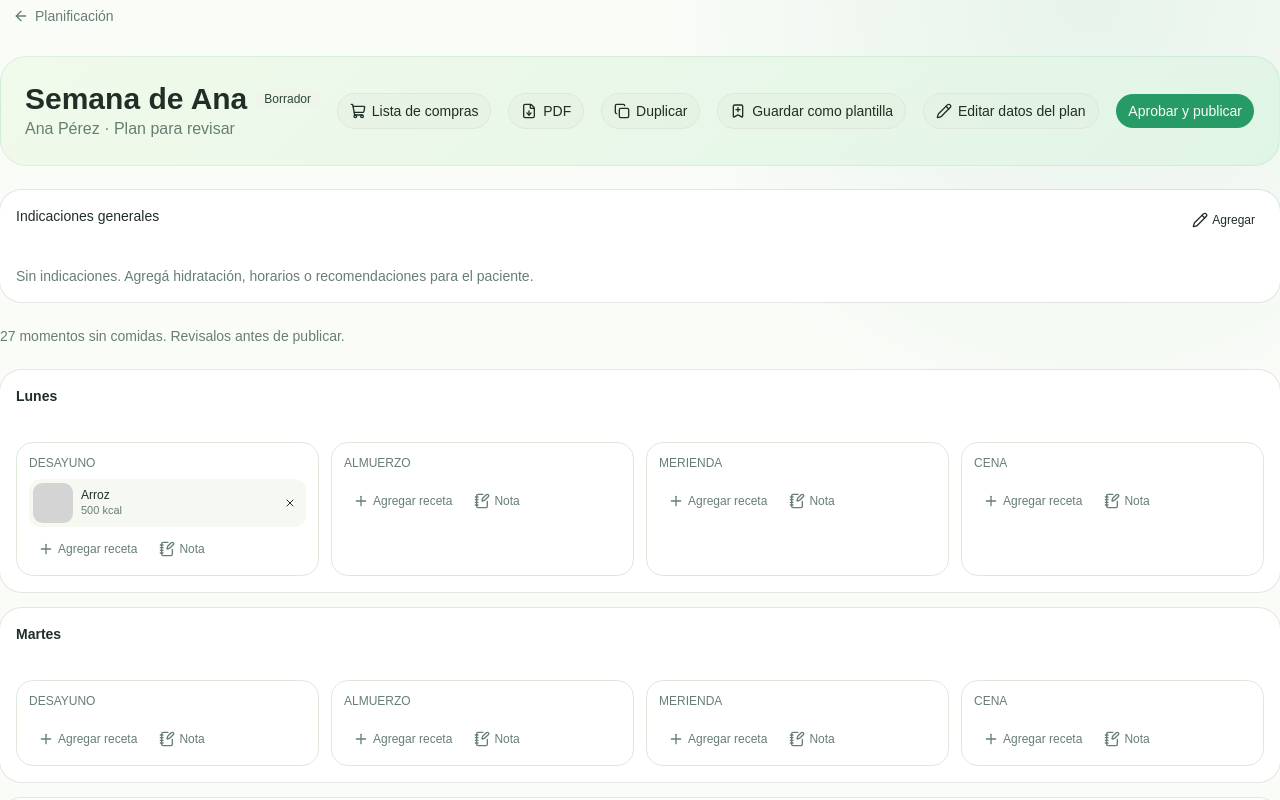
Test: Revisión del plan › refleja una receta sólo después de guardarla y evita el doble envío
The width and height of the screenshot is (1280, 800).
Expected: the heading "Semana de Ana" is shown, [25,81,247,117]
Click the 1st button "Agregar receta". click: (403, 501)
box: [344,487,461,515]
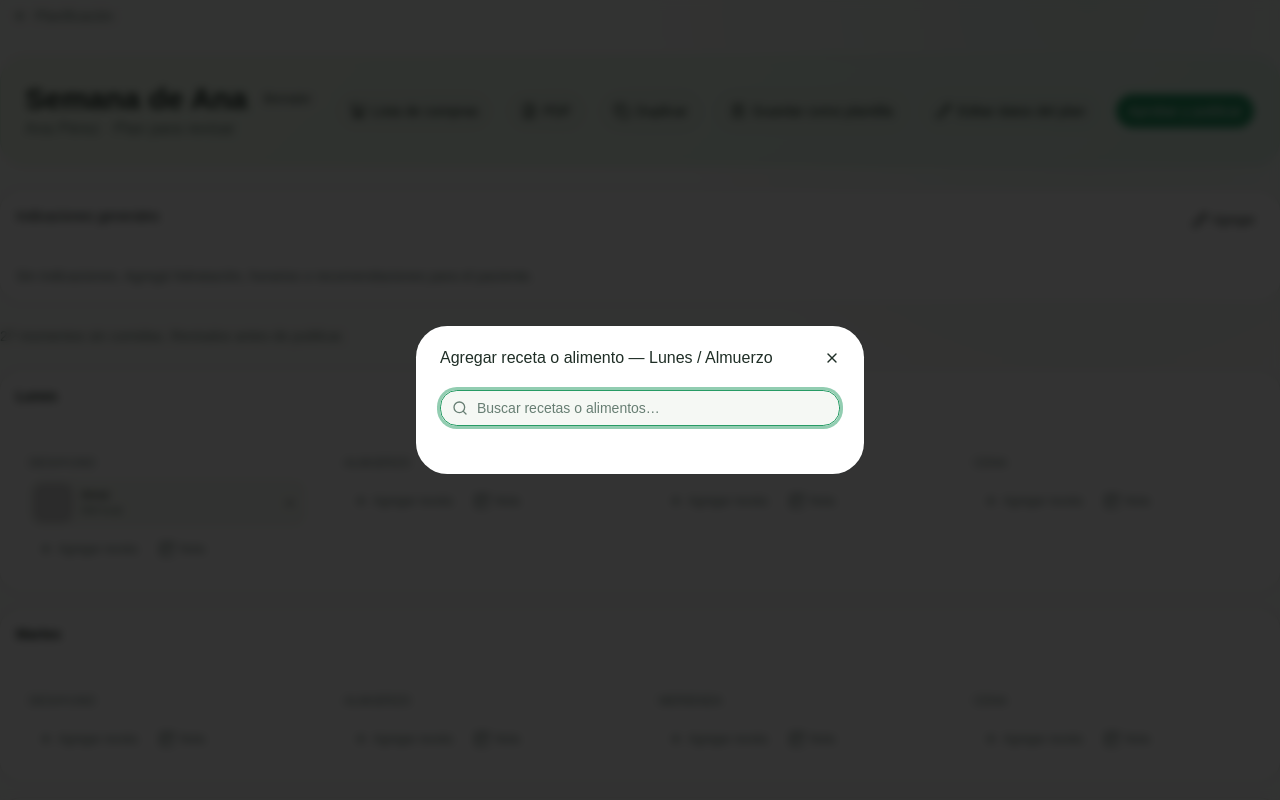
Type "arroz" into the field with placeholder "Buscar recetas o alimentos…". click: (640, 408)
box: [440,390,840,426]
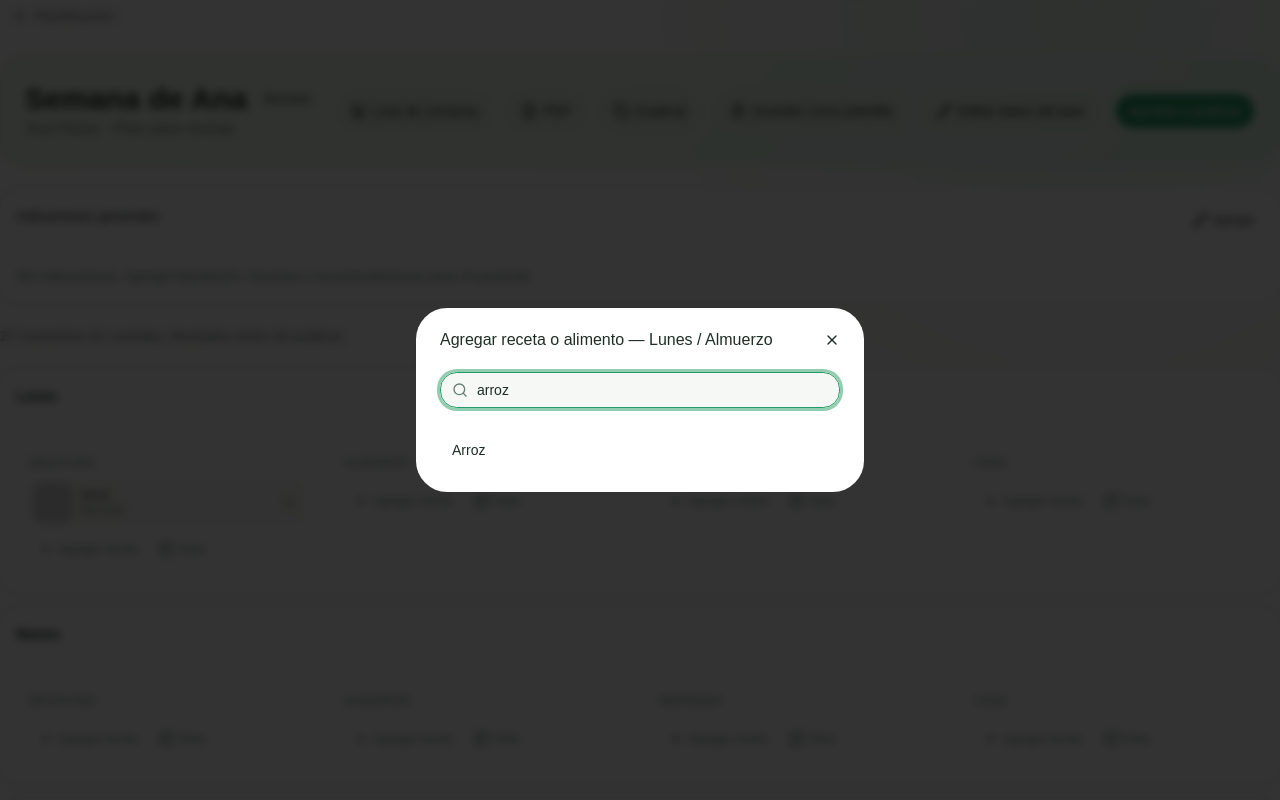
Double-click the button "Arroz" at (469, 450), box [440,432,840,468]
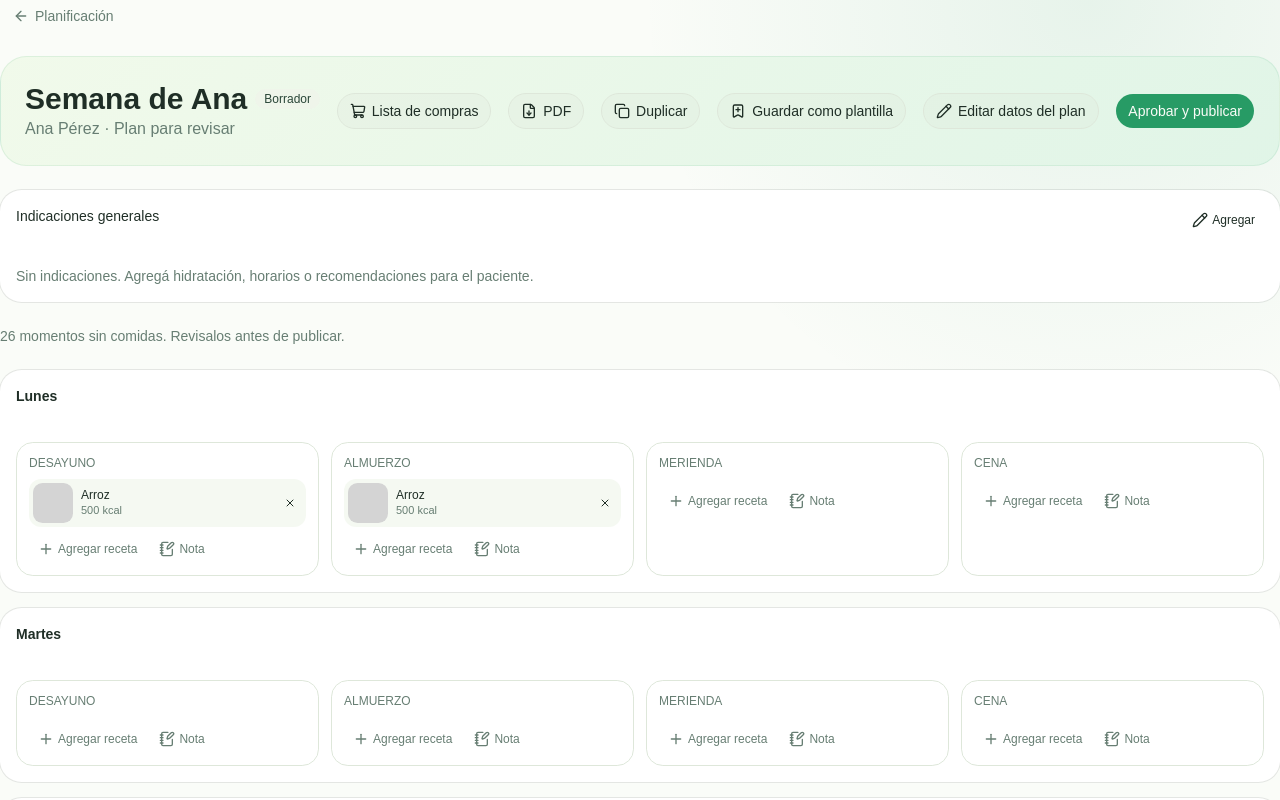
Expected: the button named "Quitar Arroz de Lunes Almuerzo" is shown, [595,493,615,513]
